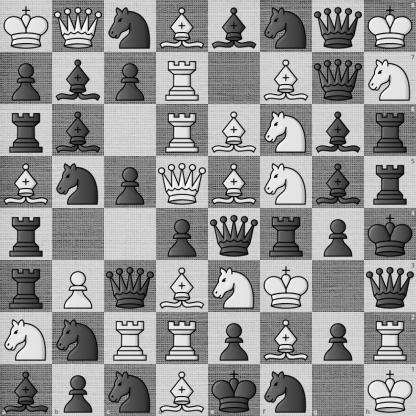B: (156, 364, 209, 416), (1, 157, 52, 208), (157, 1, 208, 52), (157, 261, 208, 312), (209, 105, 260, 156), (209, 157, 260, 208), (261, 53, 312, 104), (261, 313, 312, 364)
K: (364, 0, 416, 52), (364, 364, 416, 416), (1, 1, 52, 52), (261, 261, 312, 312)
N: (364, 52, 416, 104), (1, 313, 52, 364), (209, 261, 260, 312), (261, 105, 312, 156), (261, 157, 312, 208)
P: (53, 261, 104, 312)
Q: (53, 1, 104, 52), (157, 157, 208, 208)
R: (364, 312, 416, 364), (105, 313, 156, 364), (157, 53, 208, 104), (157, 105, 208, 156), (157, 313, 208, 364)
b: (0, 364, 52, 416), (53, 53, 104, 104), (53, 105, 104, 156), (209, 1, 260, 52), (313, 105, 364, 156), (313, 157, 364, 208)
board: (0, 0, 415, 415)
k: (209, 364, 260, 416), (364, 209, 416, 260)
n: (104, 364, 156, 416), (260, 364, 312, 416), (53, 157, 104, 208), (53, 313, 104, 364), (105, 1, 156, 52), (261, 1, 312, 52)
p: (52, 364, 104, 416), (1, 53, 52, 104), (105, 53, 156, 104), (105, 157, 156, 208), (157, 209, 208, 260), (209, 313, 260, 364), (313, 209, 364, 260), (313, 313, 364, 364)
q: (364, 260, 416, 312), (105, 261, 156, 312), (209, 209, 260, 260), (313, 1, 364, 52), (313, 53, 364, 104)
r: (364, 156, 416, 209), (364, 104, 416, 156), (1, 105, 52, 156), (1, 209, 52, 260), (1, 261, 52, 312), (261, 209, 312, 260)
